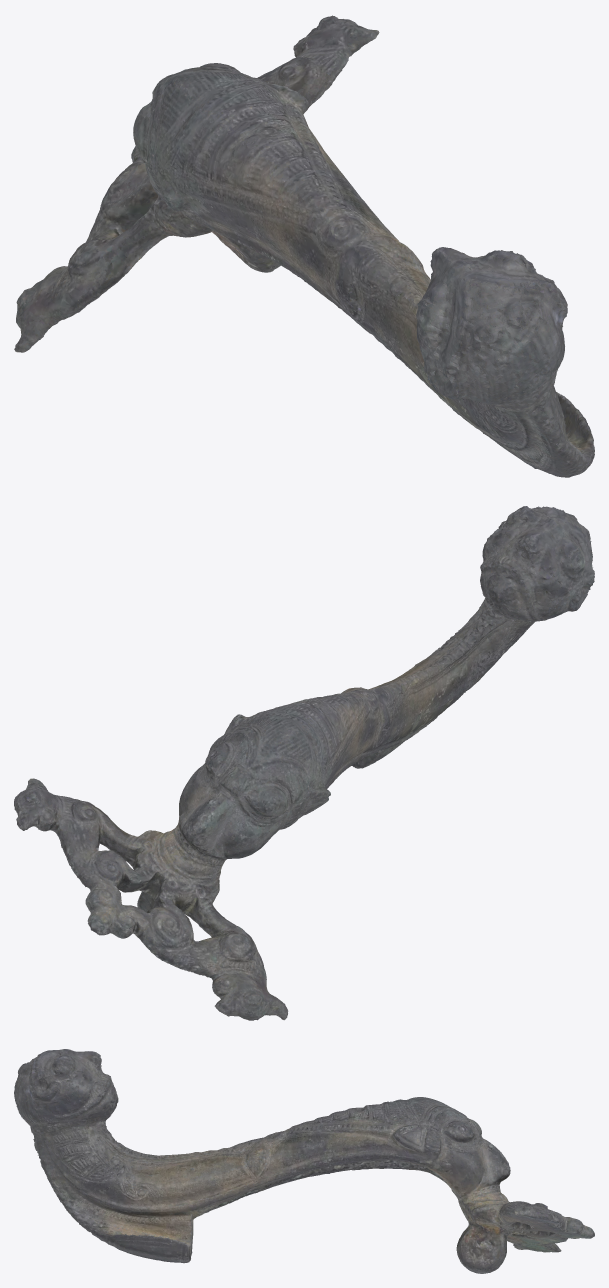
The model's file is preview.glb.
3 renders of one model, top to bottom at view 1: azimuth 30°, elevation 25°; view 2: azimuth 150°, elevation 25°; view 3: azimuth 270°, elevation 25°, orthographic. The views are drawn at different scales.
Parts seen in each view (by area): view 1: Stereo textured mesh_Material0_0; view 2: Stereo textured mesh_Material0_0; view 3: Stereo textured mesh_Material0_0.
Boxes of the visible parts, bbox=[...] form: Stereo textured mesh_Material0_0: bbox=[14, 15, 594, 477]; Stereo textured mesh_Material0_0: bbox=[14, 506, 594, 1020]; Stereo textured mesh_Material0_0: bbox=[14, 1049, 594, 1273].
Bounding box in the file's own units: 400 × 406 × 999.
1 material, 1 textured.
